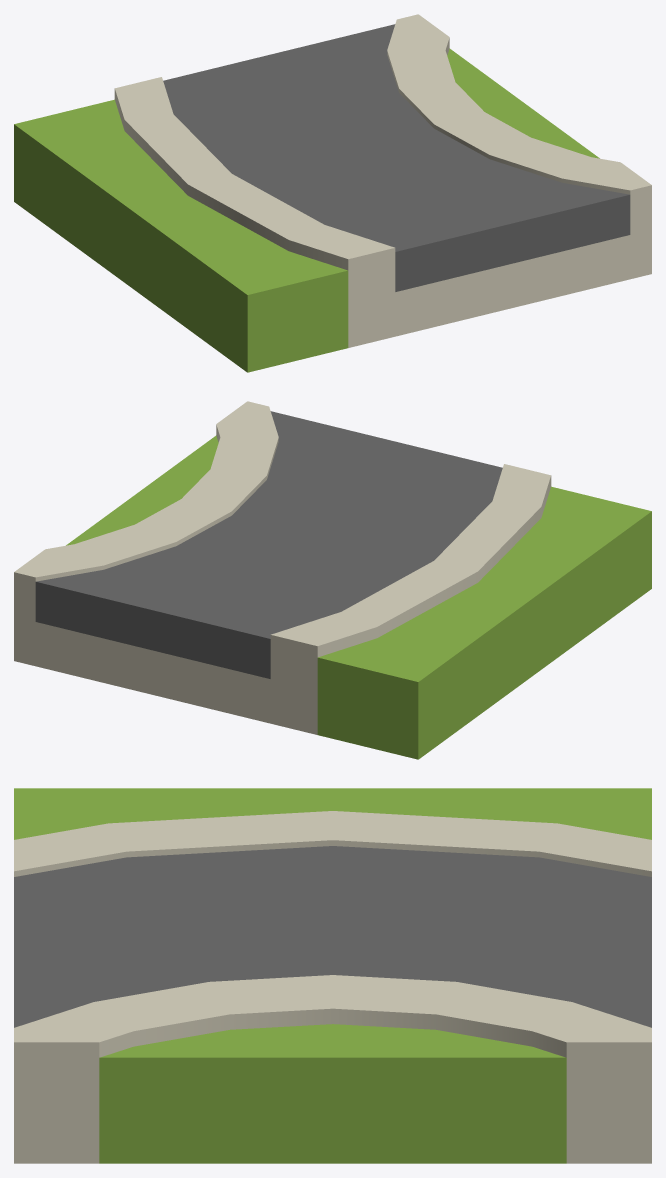
Rendered from tile051.dae.
3 views of the same model, one above another, from view 1: azimuth 30°, elevation 25°; view 2: azimuth 150°, elevation 25°; view 3: azimuth 270°, elevation 25° (orthographic). The views are drawn at different scales.
Parts seen in each view (by area): view 1: tile051; view 2: tile051; view 3: tile051.
Boxes of the visible parts, box(x1,y1,x2,y2) form: tile051: box(14, 14, 651, 372); tile051: box(14, 401, 651, 759); tile051: box(14, 788, 651, 1163).
Size of the model in its own units: 1 by 0.21 by 1.
